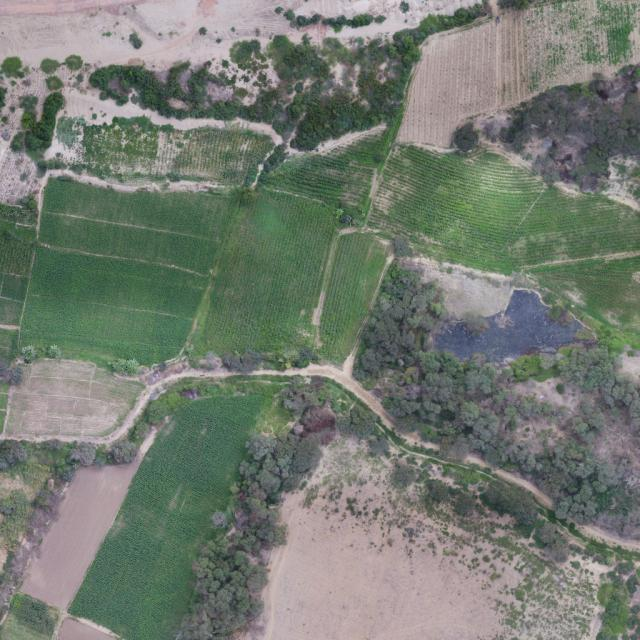agricultural_land: (88, 0, 508, 183), (67, 361, 287, 640), (68, 362, 286, 640), (362, 119, 640, 336), (364, 0, 640, 164), (198, 182, 341, 372), (19, 245, 208, 372), (17, 432, 146, 614), (37, 173, 233, 277), (261, 97, 398, 226), (56, 116, 274, 184), (0, 458, 75, 639), (311, 228, 391, 368), (6, 360, 143, 436), (8, 85, 66, 167), (17, 455, 55, 492), (298, 70, 301, 73)
greenland: (273, 319, 640, 640), (349, 262, 455, 396), (279, 372, 341, 451), (378, 266, 418, 363)
